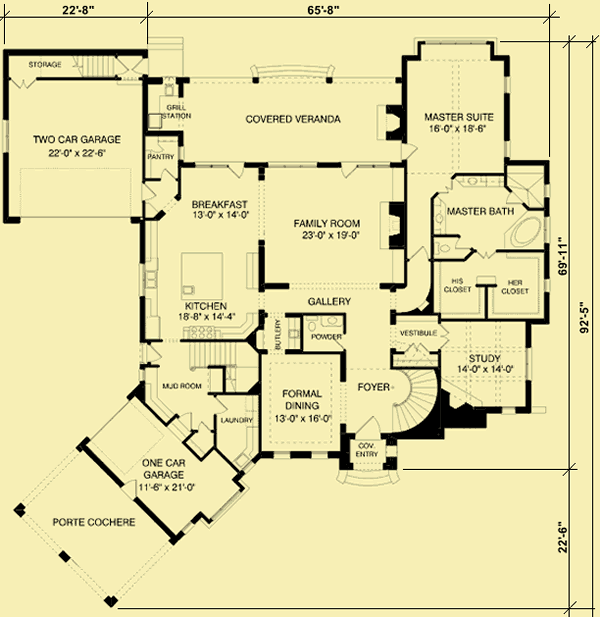bathroom has a small and large sink: (302, 312, 350, 356)
kitchen has a kitchen bar, twin sink and a cooking range: (141, 219, 266, 339)
master bathroom has a bathtub, small and large sinks and a saperate shower space: (431, 161, 551, 265)
